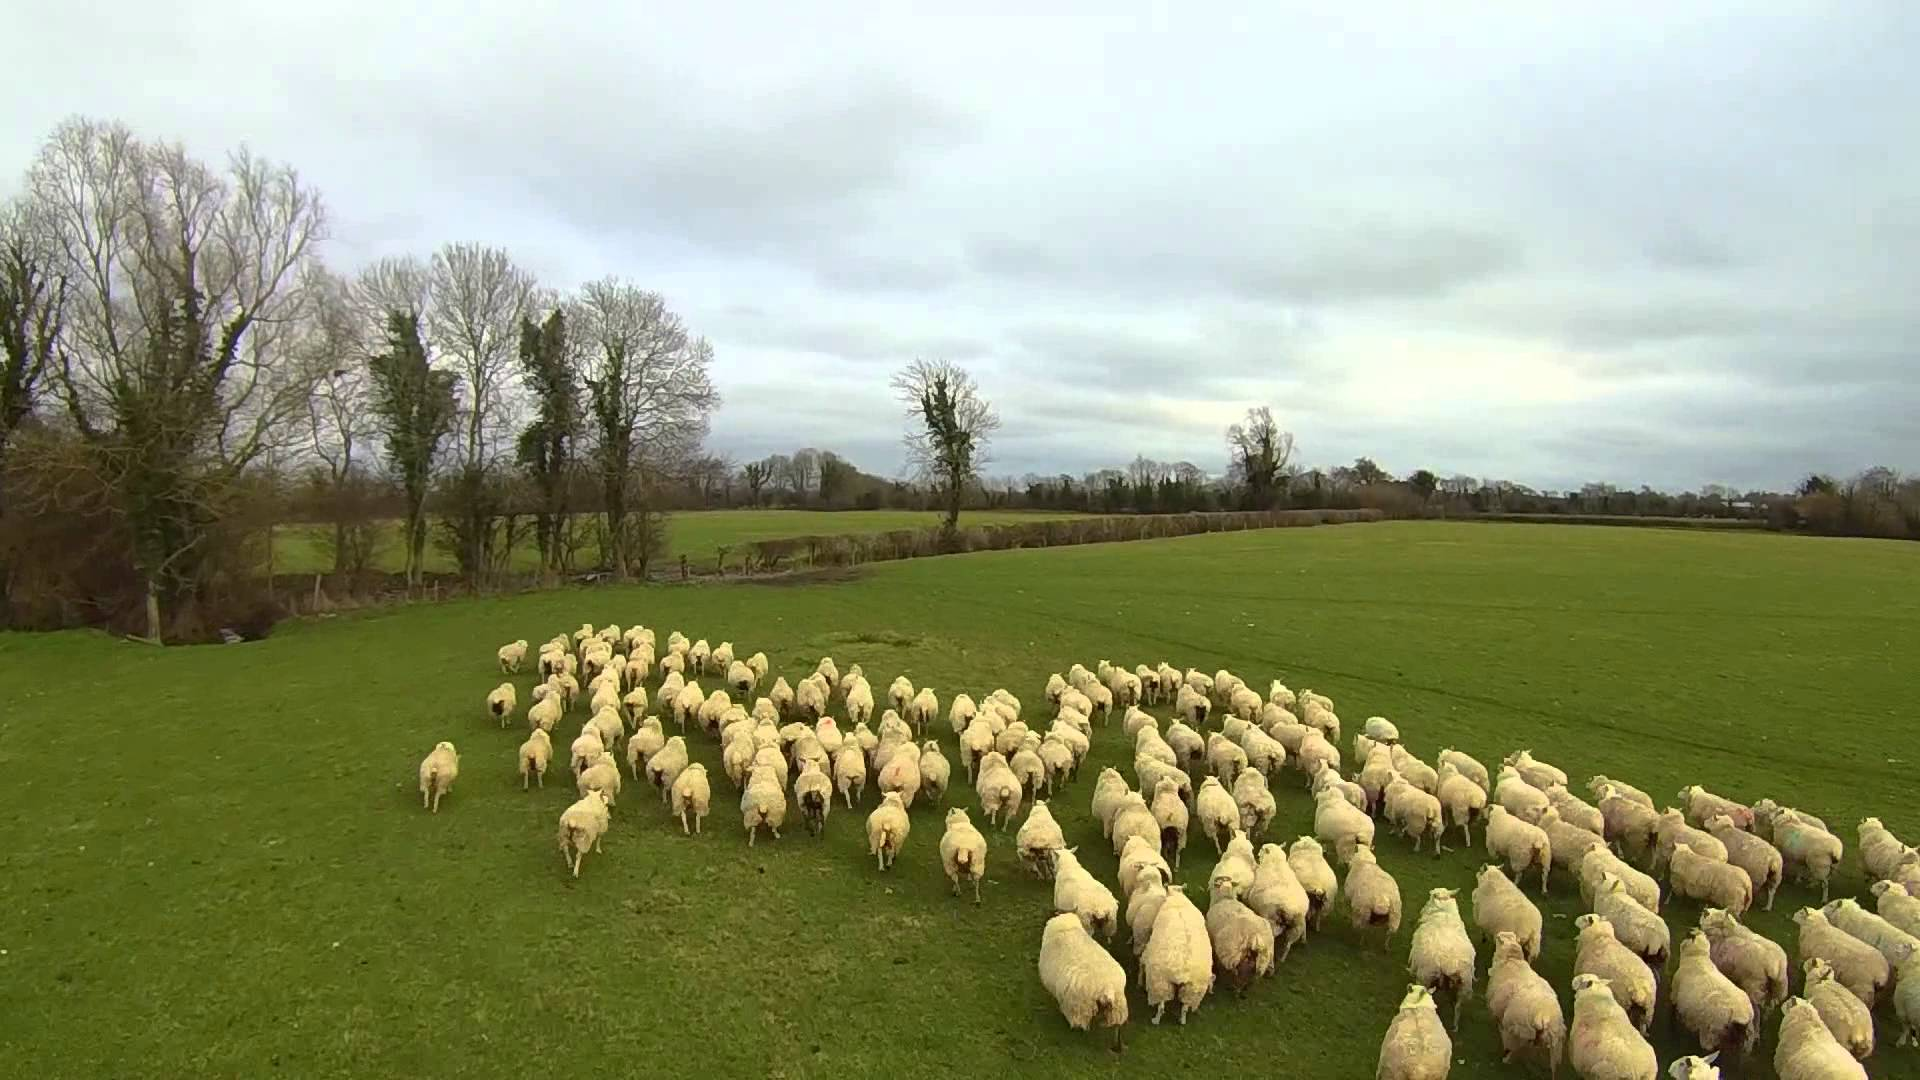sheep: (1034, 907, 1133, 1050), (1482, 927, 1571, 1080), (1672, 928, 1756, 1060), (1138, 881, 1211, 1029), (1698, 907, 1785, 1030), (1406, 882, 1476, 1033), (1572, 914, 1656, 1038), (1793, 906, 1887, 1010), (1568, 971, 1651, 1080), (1204, 878, 1278, 1000), (1588, 873, 1673, 976), (1468, 865, 1549, 971), (1799, 957, 1875, 1065), (1775, 996, 1869, 1080), (1051, 847, 1120, 959), (1706, 810, 1782, 909), (1770, 800, 1841, 905), (1374, 982, 1448, 1080), (1250, 843, 1309, 964), (1578, 843, 1662, 926), (1669, 841, 1751, 922), (1345, 843, 1404, 951), (1658, 806, 1730, 891), (1673, 785, 1758, 853), (1484, 804, 1551, 890), (1284, 831, 1337, 936), (1311, 786, 1374, 872), (1383, 767, 1447, 853), (1593, 785, 1662, 864), (1538, 806, 1607, 882), (1854, 810, 1915, 897), (1490, 766, 1556, 843), (1207, 827, 1258, 924), (1427, 764, 1490, 843), (940, 803, 988, 902), (1017, 798, 1069, 880), (560, 789, 612, 872), (1548, 779, 1604, 853), (975, 748, 1022, 831), (1118, 835, 1170, 910), (866, 789, 913, 872), (1091, 767, 1139, 844), (1228, 767, 1276, 843), (1114, 791, 1160, 870), (745, 762, 785, 848), (671, 760, 713, 837), (876, 742, 920, 814), (1437, 745, 1489, 804), (794, 757, 831, 837), (649, 736, 690, 806), (1870, 881, 1920, 938), (1295, 728, 1344, 786), (418, 738, 460, 804), (1131, 720, 1178, 778), (1242, 723, 1287, 781), (1164, 713, 1205, 777), (580, 749, 620, 814), (626, 713, 662, 785), (1298, 698, 1342, 752), (1035, 728, 1071, 795), (516, 731, 556, 789), (1207, 731, 1245, 793), (963, 713, 997, 781), (1052, 716, 1088, 781), (1164, 720, 1207, 771), (833, 745, 869, 806), (916, 740, 952, 800), (1006, 738, 1043, 796), (752, 742, 785, 807), (585, 704, 622, 758), (572, 728, 607, 785), (574, 720, 607, 778), (527, 686, 563, 738), (699, 687, 732, 744), (1059, 702, 1095, 752), (582, 636, 615, 688), (1104, 665, 1141, 711), (907, 686, 942, 735), (1176, 684, 1211, 733), (1217, 712, 1255, 756), (675, 678, 704, 735), (814, 713, 847, 762), (847, 675, 876, 729), (799, 671, 829, 723), (793, 738, 829, 781), (1356, 732, 1394, 771), (1226, 680, 1262, 723), (1083, 678, 1113, 727), (1124, 703, 1154, 752), (589, 676, 621, 720), (657, 671, 684, 720), (717, 702, 750, 742), (727, 658, 754, 705), (948, 691, 977, 736), (749, 698, 781, 738), (501, 636, 531, 678), (622, 684, 650, 729), (770, 675, 795, 724), (487, 684, 518, 723), (589, 663, 621, 702), (1044, 670, 1072, 713), (1135, 659, 1163, 703), (547, 669, 578, 708), (1266, 676, 1296, 715), (626, 647, 653, 691), (709, 640, 737, 680), (1213, 669, 1244, 705), (1183, 669, 1213, 703), (815, 655, 839, 698), (1156, 661, 1180, 702), (658, 650, 687, 682), (580, 632, 605, 667), (746, 650, 771, 686), (688, 638, 709, 678), (593, 622, 621, 651), (541, 633, 571, 659), (624, 622, 646, 658), (665, 632, 691, 659), (604, 651, 626, 683), (574, 622, 595, 649)
